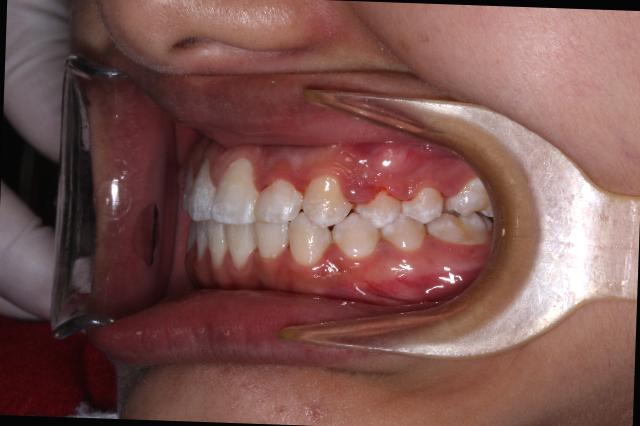canine class II 1/4: (286, 172, 384, 272)
molar class II 1/2: (424, 174, 500, 254)
